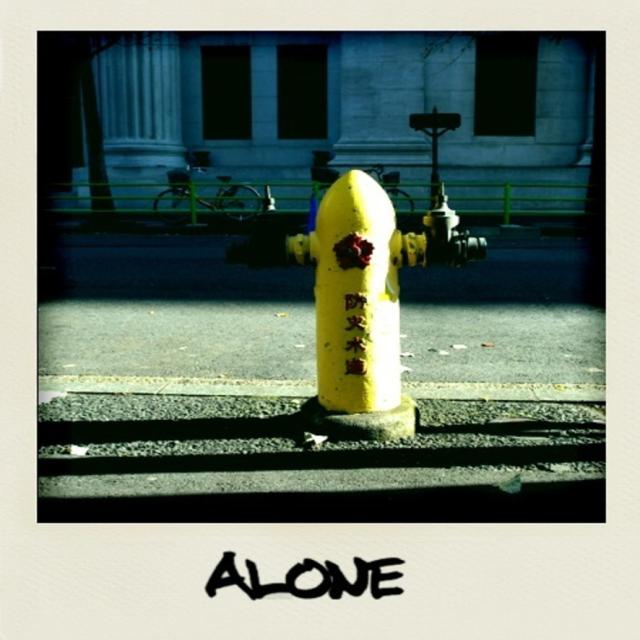fire_hydrant: (282, 170, 489, 437)
